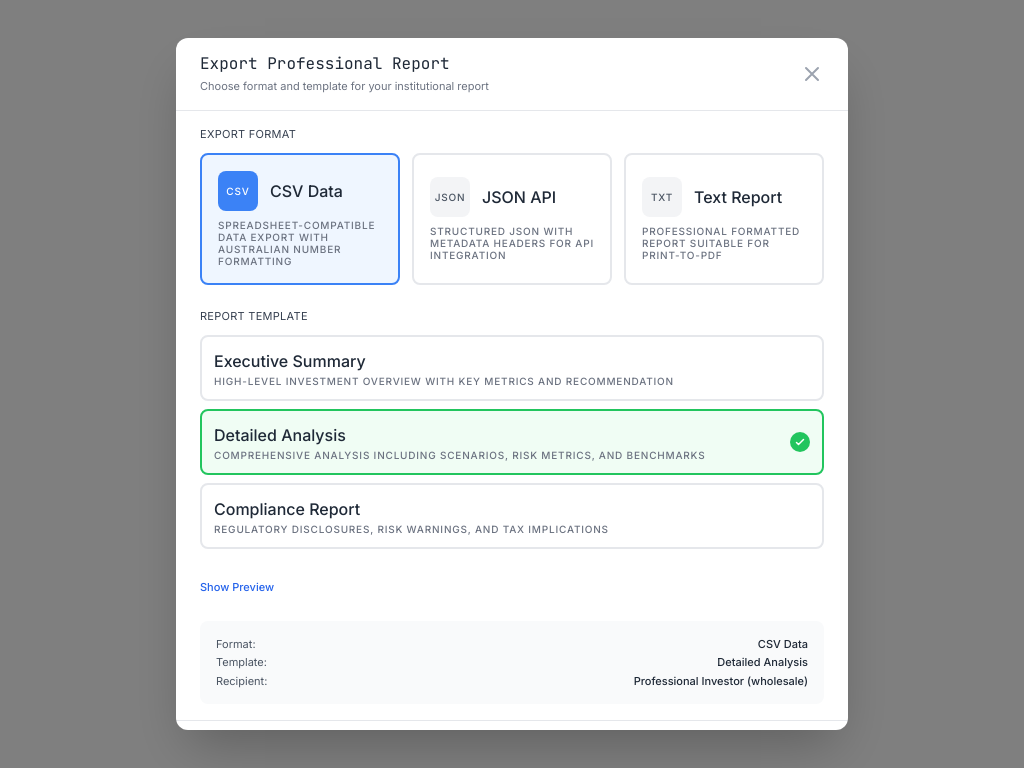
Test: ExportModal Preview › clicking Hide Preview hides preview pane
// Show preview
Click the button with test id "preview-toggle" at (237,587), box [200, 580, 274, 594]
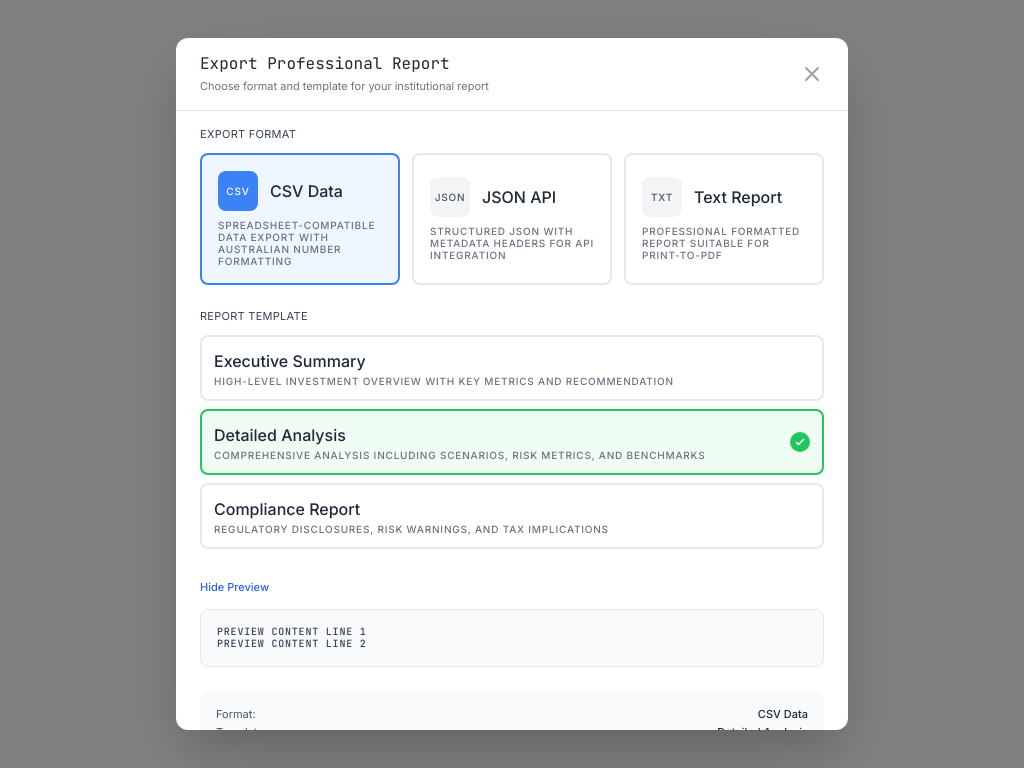
Check: the element with test id "preview-pane" is shown, box [200, 609, 824, 667]
// Hide preview
Click the button with test id "preview-toggle" at (234,587), box [200, 580, 269, 594]
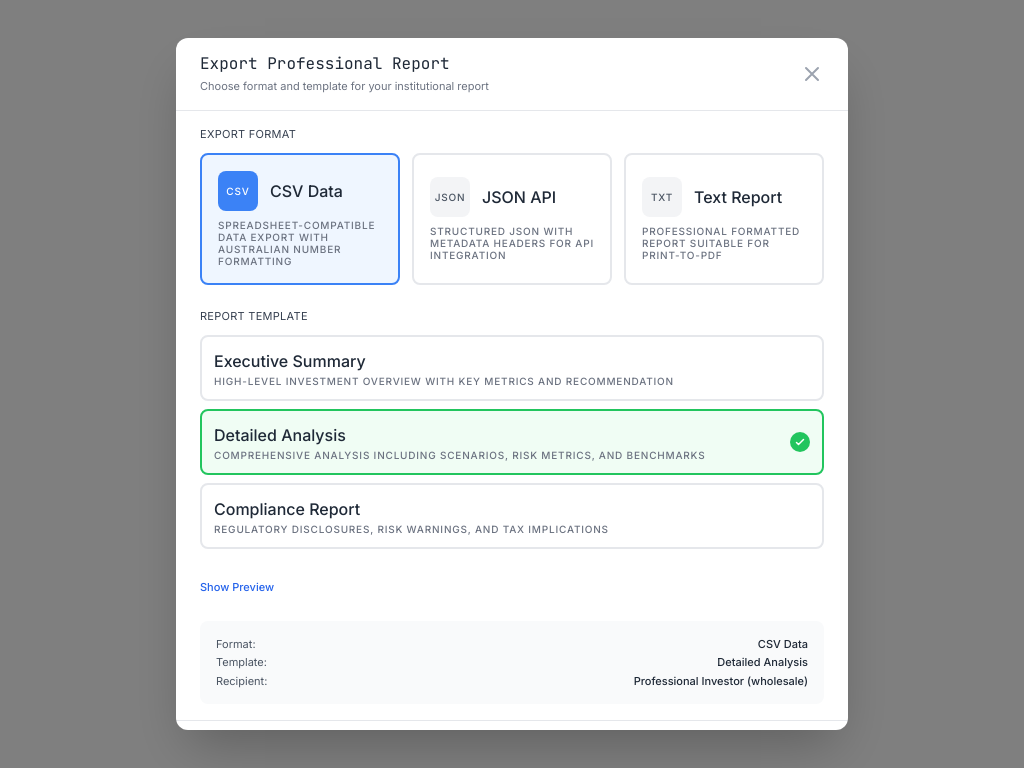
Check: the element with test id "preview-pane" is gone
